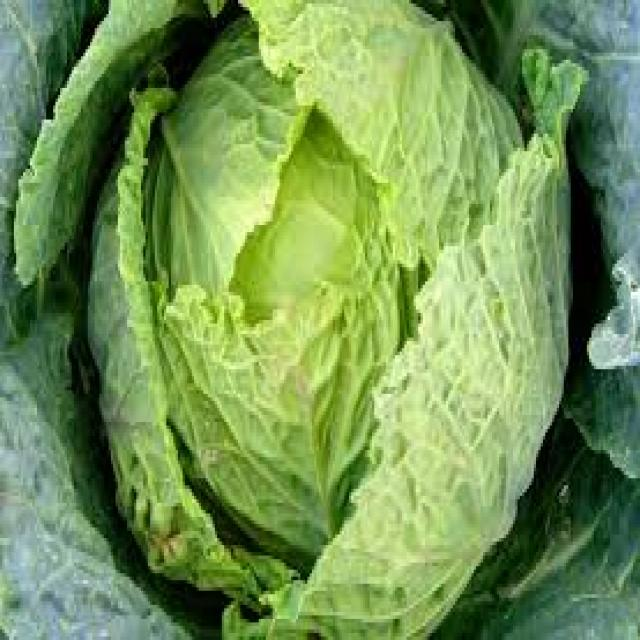organic waste: (0, 0, 637, 636), (83, 0, 584, 636)
